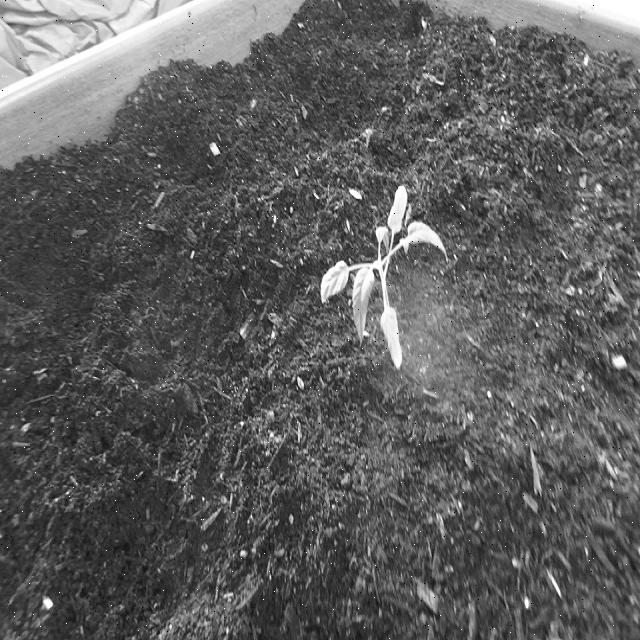Healthy: (313, 172, 457, 382)
